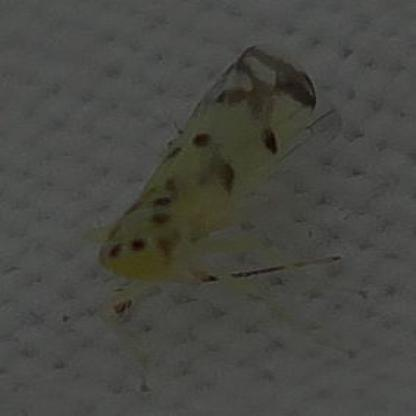green-leafhopper: (90, 40, 333, 315)
